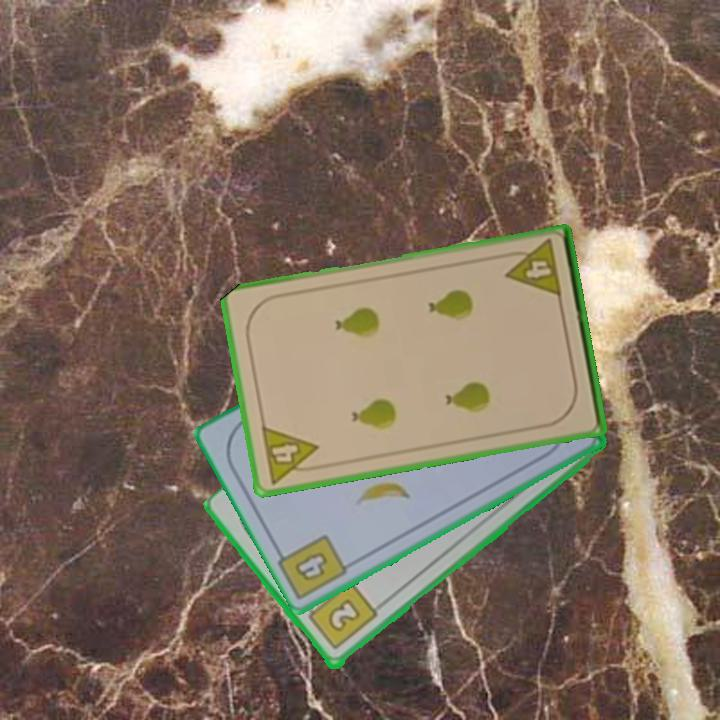2b: (301, 578, 380, 653)
4b: (290, 548, 331, 585)
4p: (258, 422, 324, 487), (500, 236, 565, 301)
